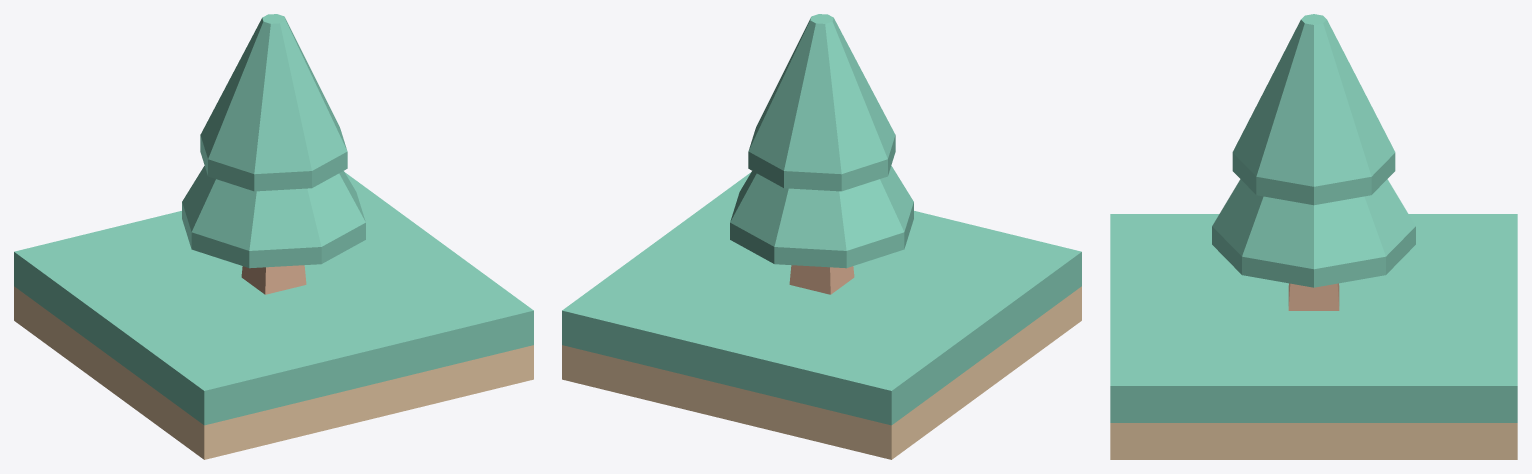
The model's file is terrain_tree.gltf.
The picture shows the model from 3 angles, left to right: view 1: azimuth 30°, elevation 25°; view 2: azimuth 150°, elevation 25°; view 3: azimuth 270°, elevation 25°; orthographic projection. The views are drawn at different scales.
Visible parts, largest first — view 1: tile_tree, tree; view 2: tile_tree, tree; view 3: tile_tree, tree.
Boxes of the visible parts, x1,y1,x2,y2 form: tile_tree: (14, 172, 533, 459); tree: (182, 14, 365, 294); tile_tree: (562, 172, 1081, 459); tree: (730, 14, 913, 294); tile_tree: (1110, 214, 1517, 459); tree: (1212, 14, 1415, 310).
Bounding box in the file's own units: 1 × 0.96 × 1.
